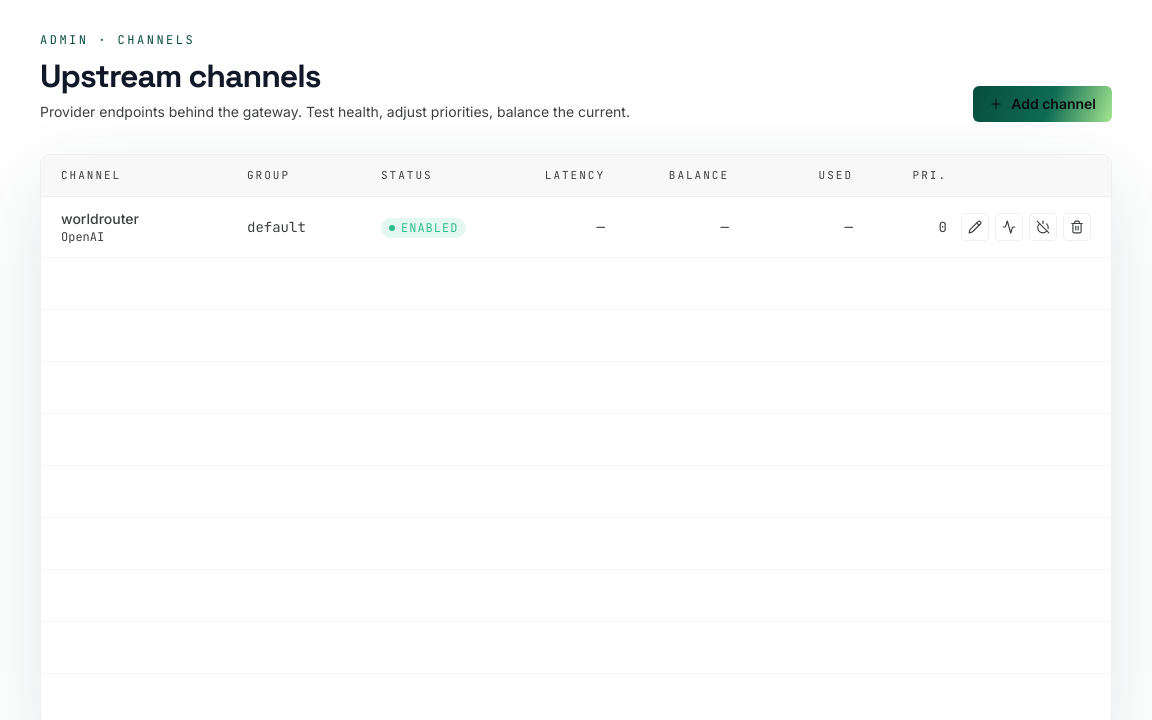
Test: /console/channels mutation errors › surfaces the API error when testing a channel fails
The image size is (1152, 720).
Expected: the text "worldrouter" is shown, x1=61 y1=210 x2=139 y2=226
Click the button named "Test" at (1009, 226), box x1=995 y1=212 x2=1023 y2=240
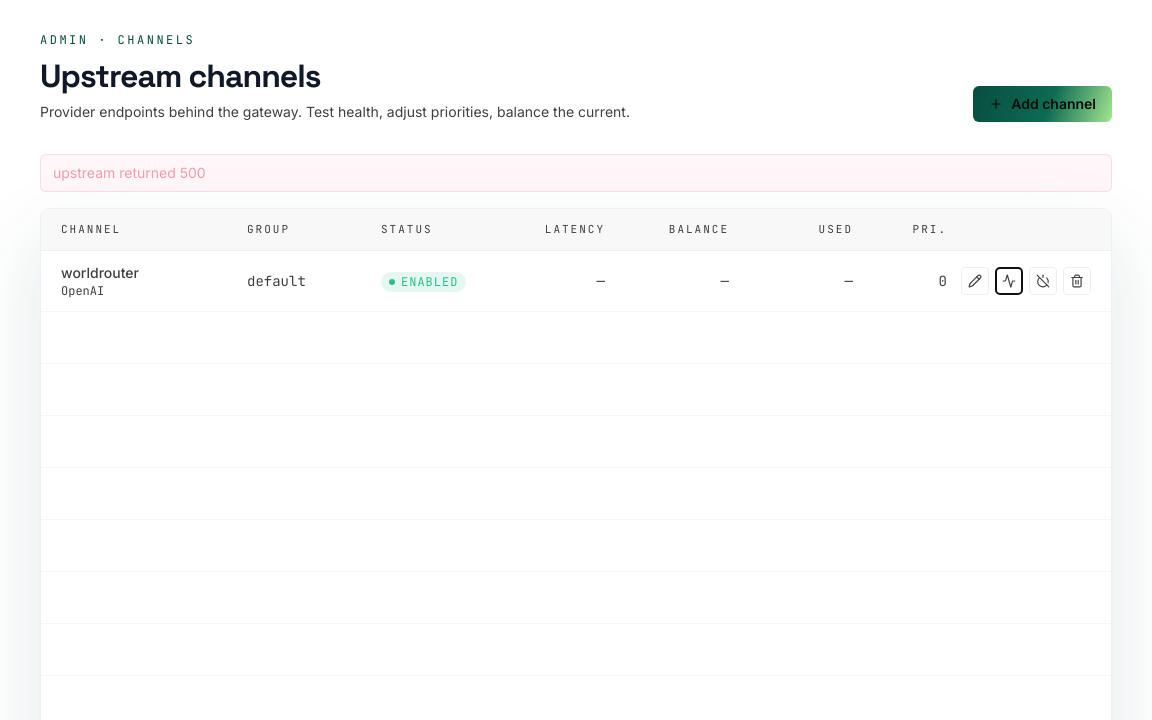
Result: the text "upstream returned 500" is shown at x1=40 y1=154 x2=1112 y2=192
